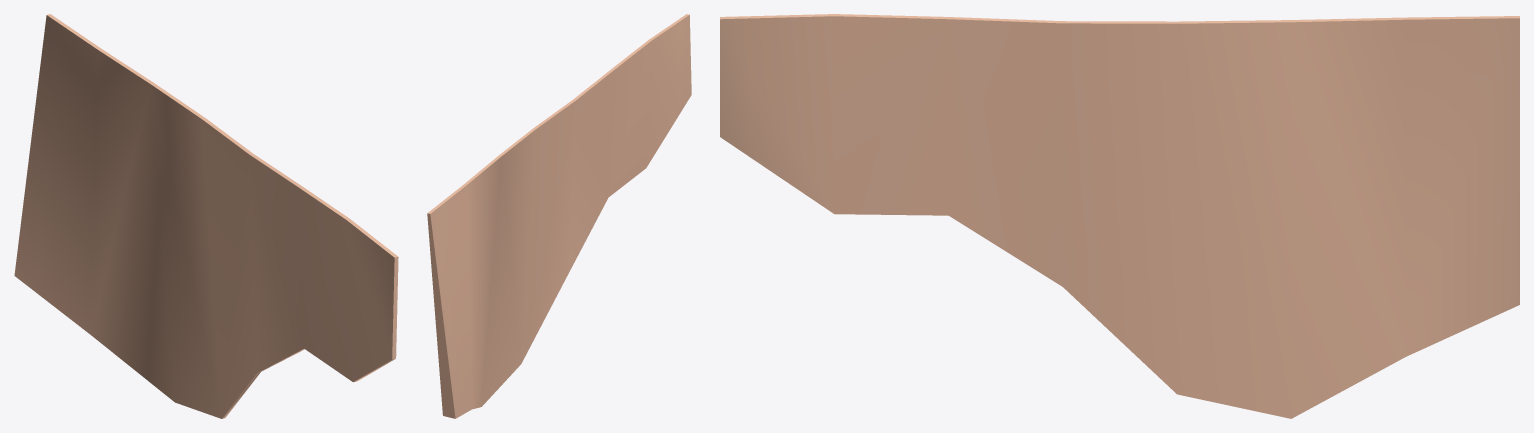
File: Curtun_Short2.fbx
The picture shows the model from 3 angles, left to right: view 1: azimuth 30°, elevation 25°; view 2: azimuth 150°, elevation 25°; view 3: azimuth 270°, elevation 25°; orthographic projection. The views are drawn at different scales.
Visible parts, largest first — view 1: Curtun_Short2; view 2: Curtun_Short2; view 3: Curtun_Short2.
Part boxes in pixels (box(x1,y1,x2,y2)): Curtun_Short2: box(14, 14, 398, 418); Curtun_Short2: box(427, 14, 691, 418); Curtun_Short2: box(720, 14, 1519, 418).
Size of the model in its own units: 0.00357 by 0.0167 by 0.0311.
1 material, 1 textured.
